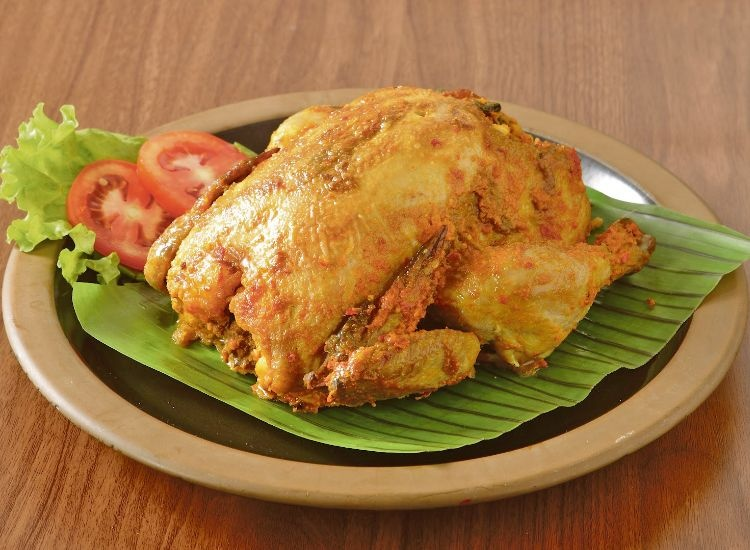ayam_betutu: (282, 86, 647, 417)
